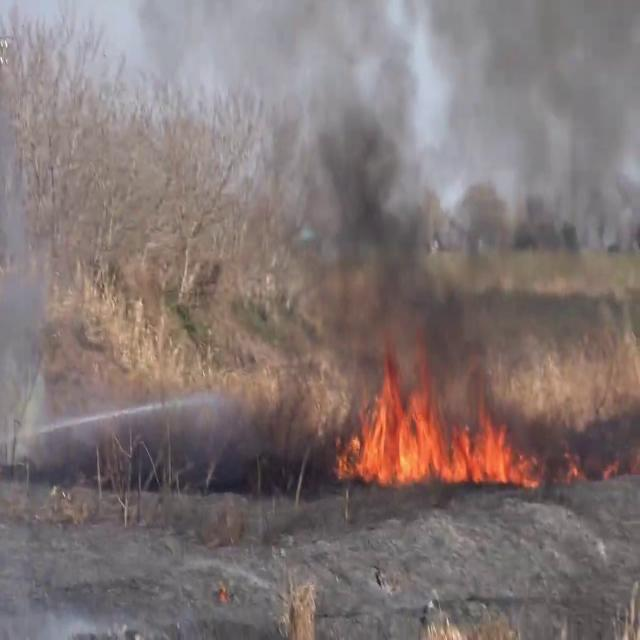Fire: (340, 364, 534, 494)
Smoke: (288, 0, 640, 401), (0, 7, 64, 464)
